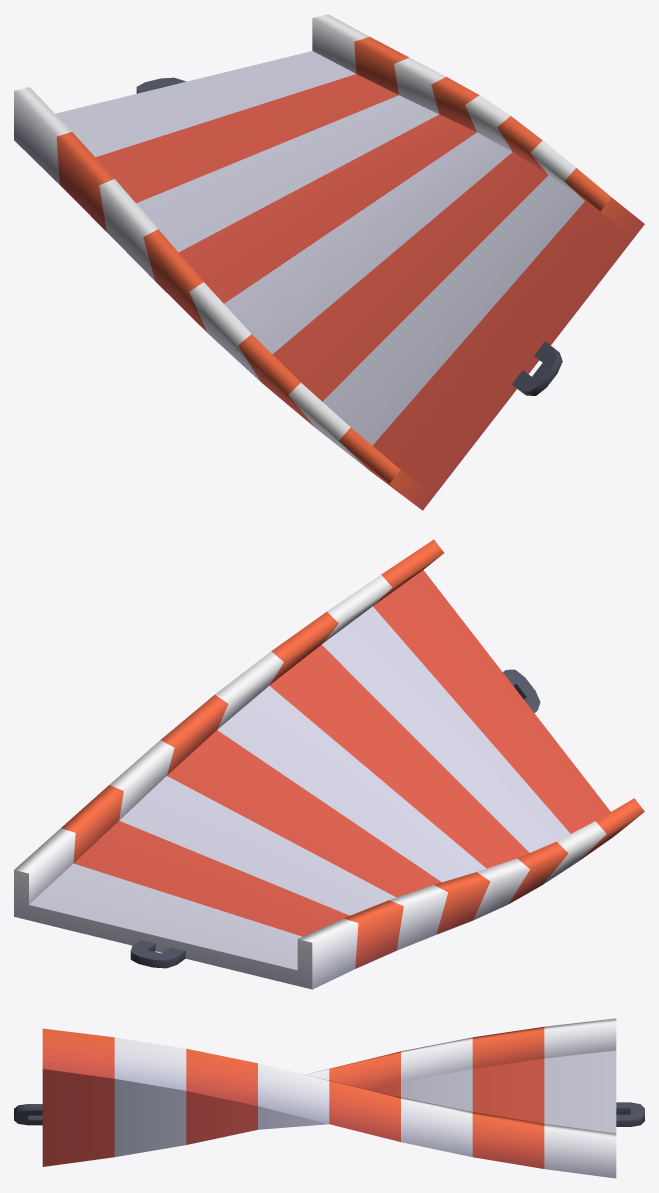
The model's file is kenney-toy-car-track-striped-wide-straight-skew-right.glb.
The picture shows the model from 3 angles, top to bottom: view 1: azimuth 30°, elevation 25°; view 2: azimuth 150°, elevation 25°; view 3: azimuth 270°, elevation 25°; orthographic projection. The views are drawn at different scales.
Parts seen in each view (by area): view 1: track-striped-wide-straight-skew-right; view 2: track-striped-wide-straight-skew-right; view 3: track-striped-wide-straight-skew-right.
Part boxes in pixels (left/top/right/bottom): track-striped-wide-straight-skew-right: left=14, top=14, right=644, bottom=510; track-striped-wide-straight-skew-right: left=14, top=539, right=644, bottom=989; track-striped-wide-straight-skew-right: left=14, top=1018, right=644, bottom=1178.
Bounding box in the file's own units: 2.04 × 1.63 × 4.4.
1 material, 1 textured.
